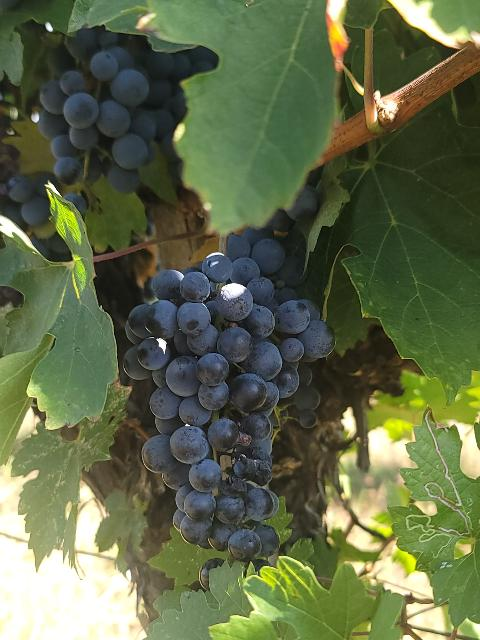grapes: (122, 239, 335, 562), (38, 29, 219, 192)
